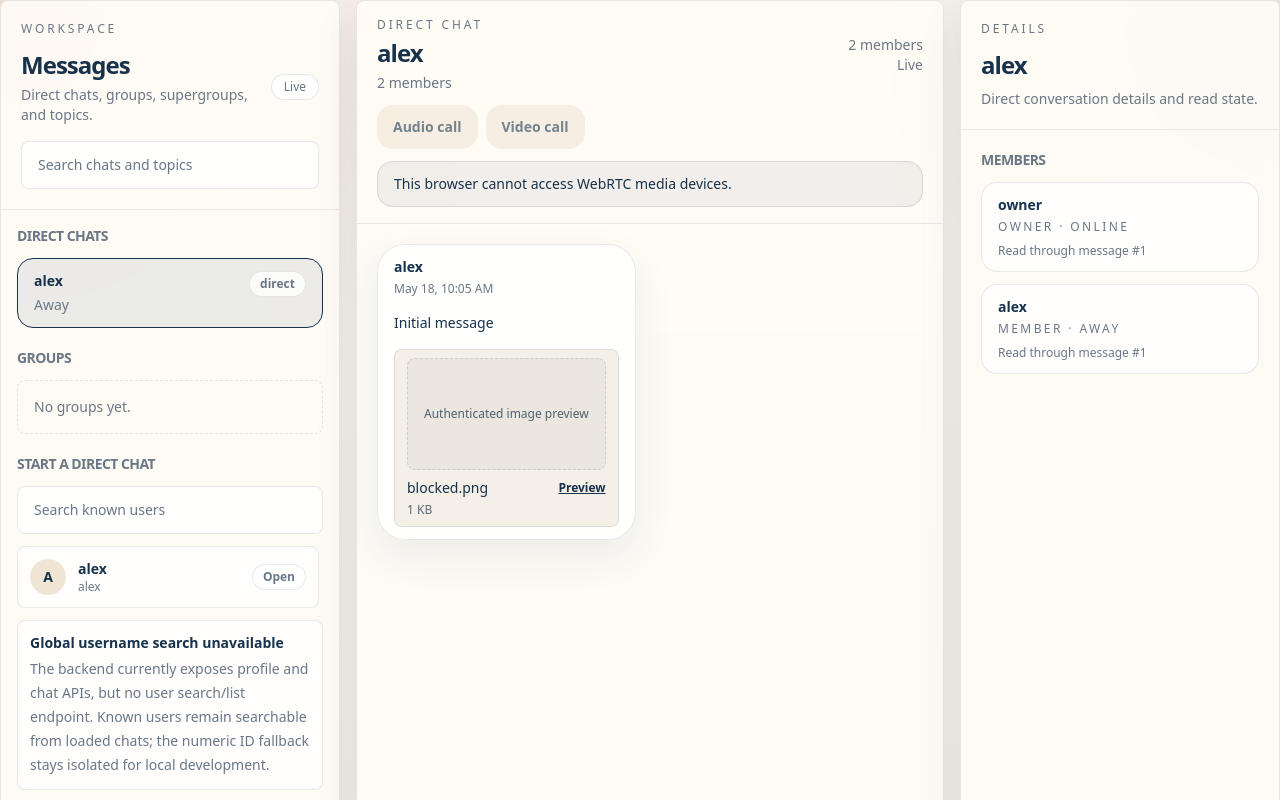
MessengerWorkspace › shows an authenticated attachment preview failure state
The image size is (1280, 800).
Expected: the text "blocked.png" is shown, [407,478,488,498]
Click the button "Preview" at (582, 488), box [558,480,606,496]
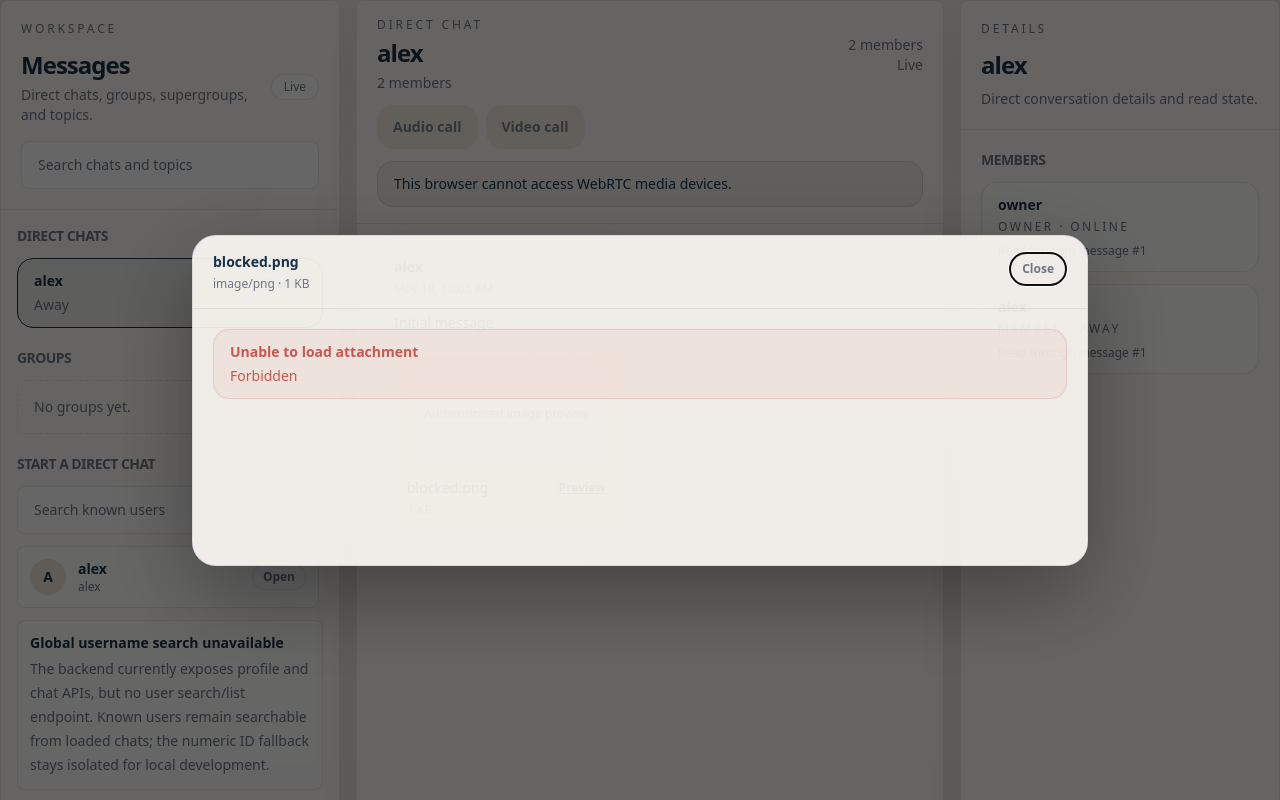
Expected: the text "Unable to load attachment" is shown, [230,342,418,360]
Expected: the text "Forbidden" is shown, [230,366,298,384]
